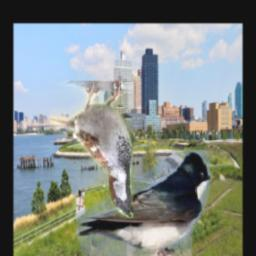Sparrow: (49, 82, 133, 219)
Swallow: (76, 151, 210, 256)
